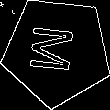M_E: (30, 25, 84, 77)
